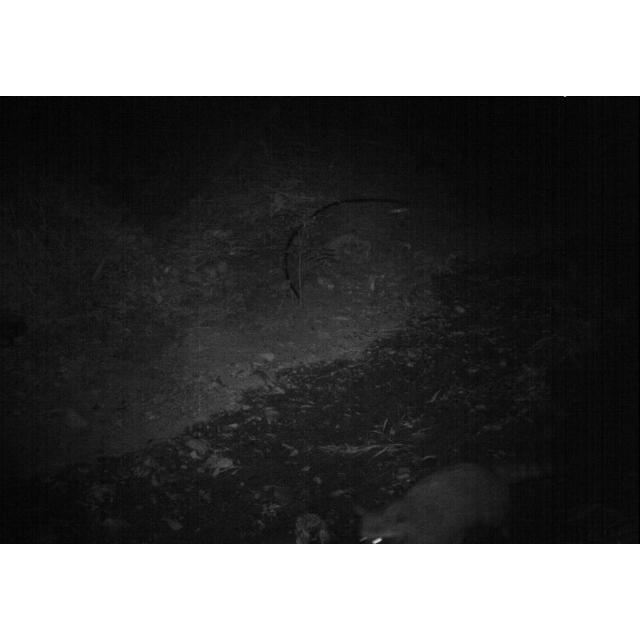animals: (351, 454, 557, 544)
